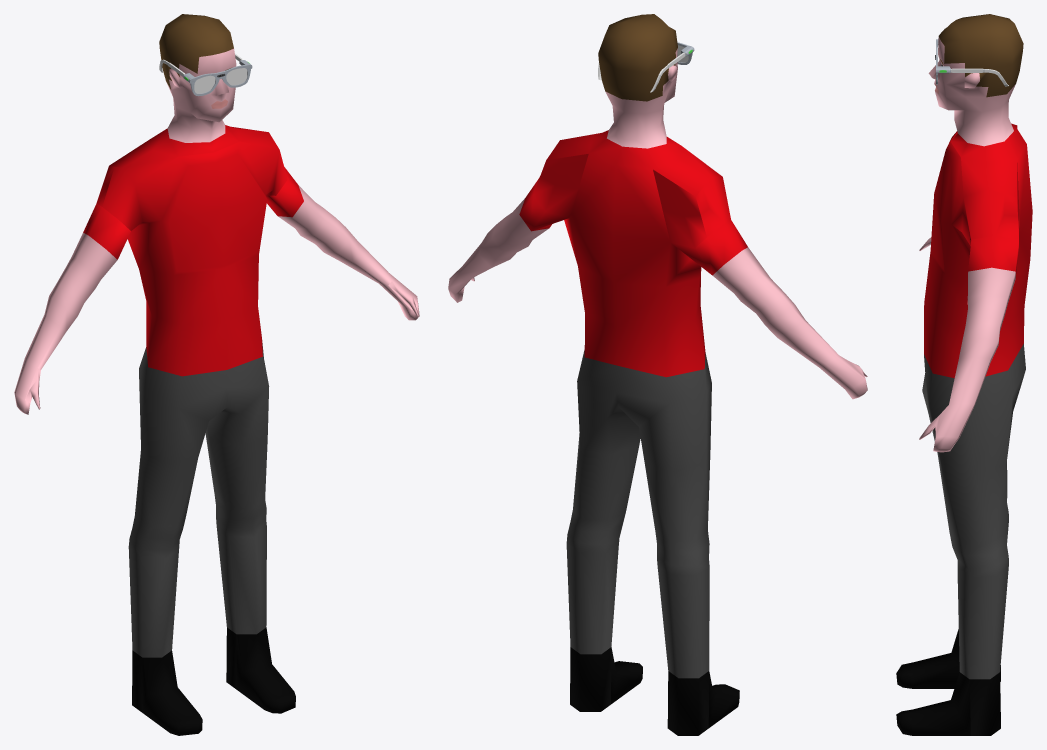
File: NPC2af.fbx
3 views of the same model, side by side, from view 1: azimuth 30°, elevation 25°; view 2: azimuth 150°, elevation 25°; view 3: azimuth 270°, elevation 25° (orthographic). The views are drawn at different scales.
Parts seen in each view (by area): view 1: Body, Circle.003; view 2: Body; view 3: Body, Circle.003.
Boxes of the visible parts, x1=… form: Body: x1=14, y1=14, x2=419, y2=735; Circle.003: x1=159, y1=53, x2=252, y2=96; Body: x1=448, y1=14, x2=867, y2=735; Body: x1=896, y1=14, x2=1032, y2=735; Circle.003: x1=935, y1=39, x2=1008, y2=86.
Bounding box in the file's own units: 114 × 182 × 32.73.
